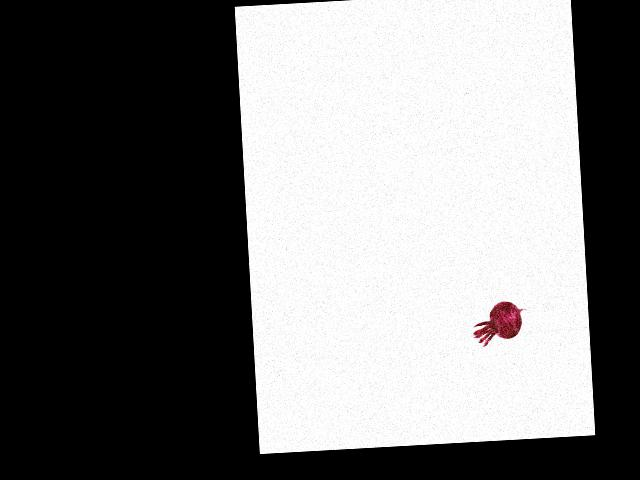beet: (471, 299, 530, 347)
